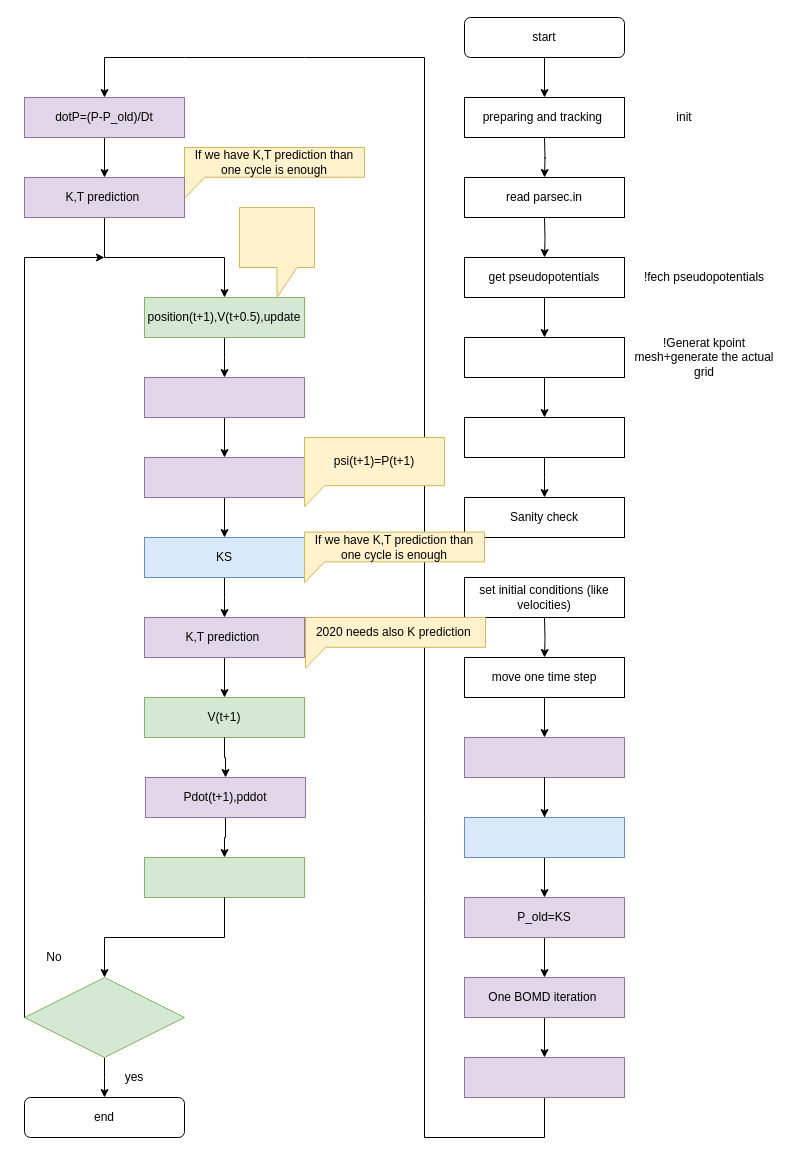
Image size: 802x1163. Some labels were removed from this diagram. The box of each missing label's shape, as (x1, y1, x2, y2) in pixels:
for verlet integration: (238, 206, 314, 298)
halo: (464, 416, 624, 458)
KS iteration: (464, 816, 624, 858)
make grid: (464, 336, 624, 378)
mu, omega (meybe inside): (464, 736, 624, 778)
P(t+1),Pdot(t+0.5): (144, 376, 304, 418)
P=KS from BOMD: (464, 1056, 624, 1098)
predict_wavefunction: (144, 456, 304, 498)
time>endtime: (24, 976, 184, 1058)
write to log: (144, 856, 304, 898)
